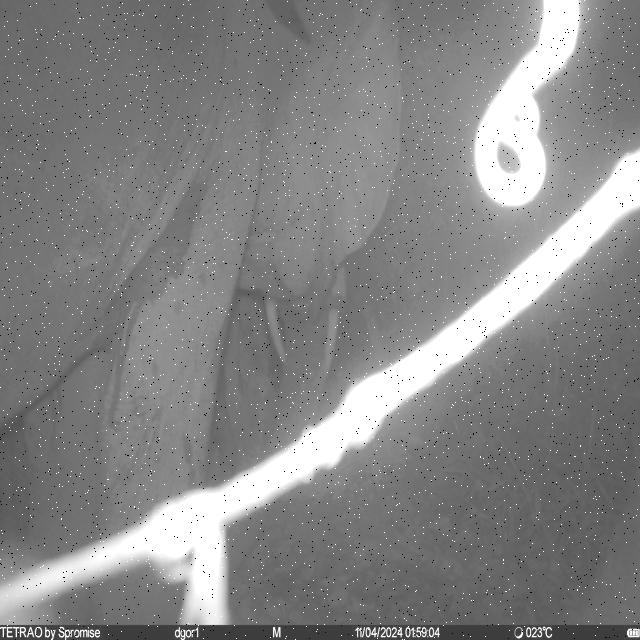ear: (274, 0, 407, 295)
elephant: (1, 0, 406, 628)
tusk: (320, 306, 342, 386), (263, 296, 287, 362)
